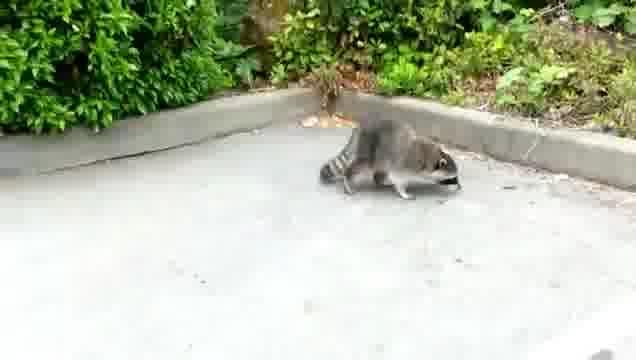raccoon: (315, 114, 470, 211)
